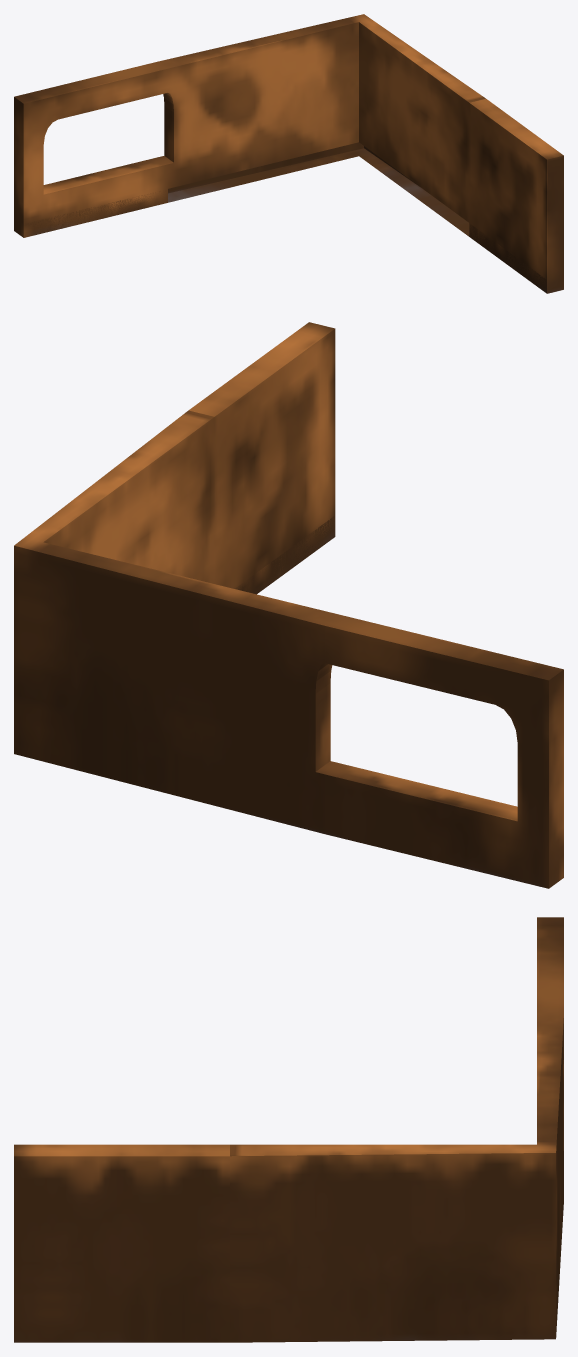
Rendered from ops_walls_0001.glb.
3 renders of one model, top to bottom at view 1: azimuth 30°, elevation 25°; view 2: azimuth 150°, elevation 25°; view 3: azimuth 270°, elevation 25°, orthographic. The views are drawn at different scales.
Parts seen in each view (by area): view 1: Walls; view 2: Walls; view 3: Walls.
Part boxes in pixels (bbox=[...]): Walls: bbox=[14, 14, 563, 293]; Walls: bbox=[14, 322, 563, 888]; Walls: bbox=[14, 917, 563, 1342].
Bounding box in the file's own units: 84.65 × 30.82 × 82.36.
1 material, 1 textured.
